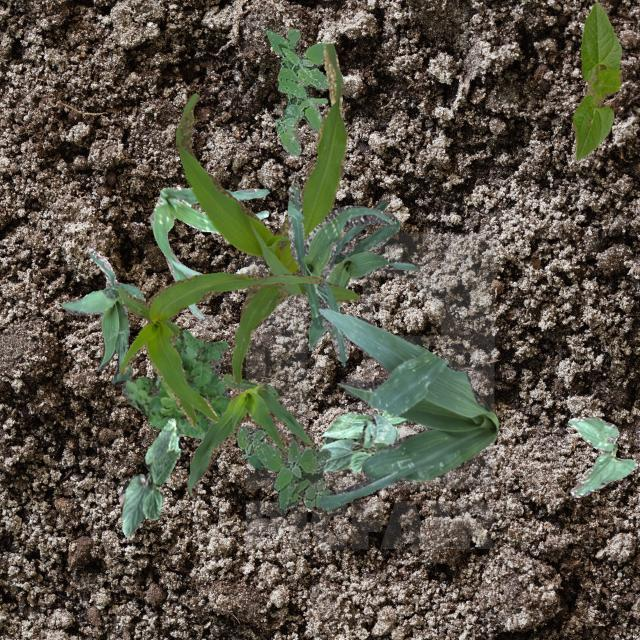crop: (175, 42, 358, 384), (318, 304, 498, 510), (116, 270, 322, 426), (286, 182, 394, 366), (306, 200, 418, 350), (148, 185, 268, 318), (186, 372, 312, 494), (59, 246, 144, 384), (572, 2, 620, 158), (119, 418, 180, 534), (566, 416, 636, 496), (276, 437, 342, 512), (317, 412, 395, 472), (319, 404, 406, 440)
weed: (120, 326, 230, 438), (264, 28, 328, 154), (234, 424, 330, 508)
